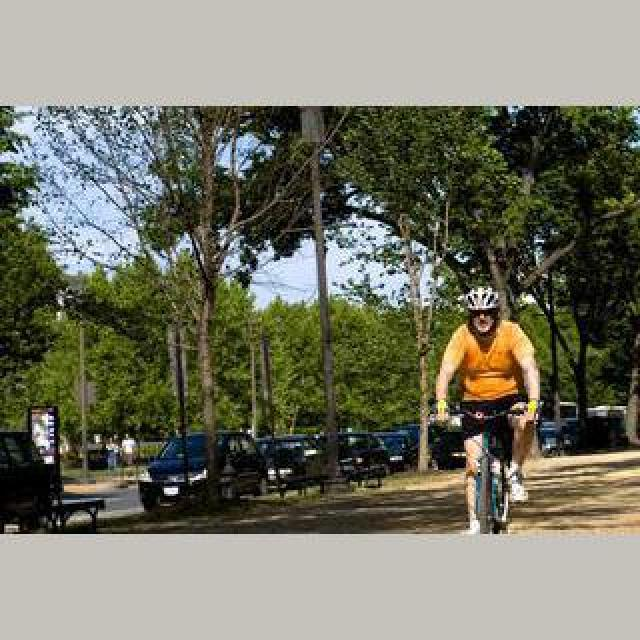Bus-Bike: (138, 432, 266, 512), (256, 434, 326, 484)
MC-Bike: (434, 286, 540, 522)
Person: (462, 410, 530, 532)
